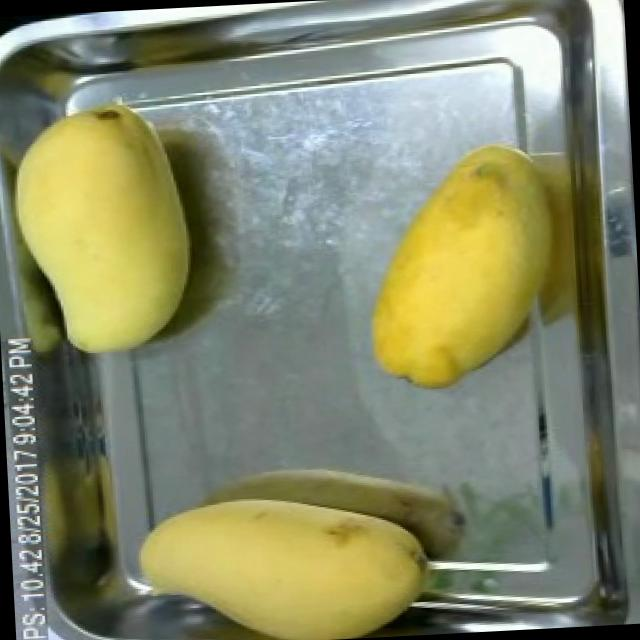fruit: (356, 125, 600, 404), (0, 76, 215, 373), (120, 468, 443, 640)
